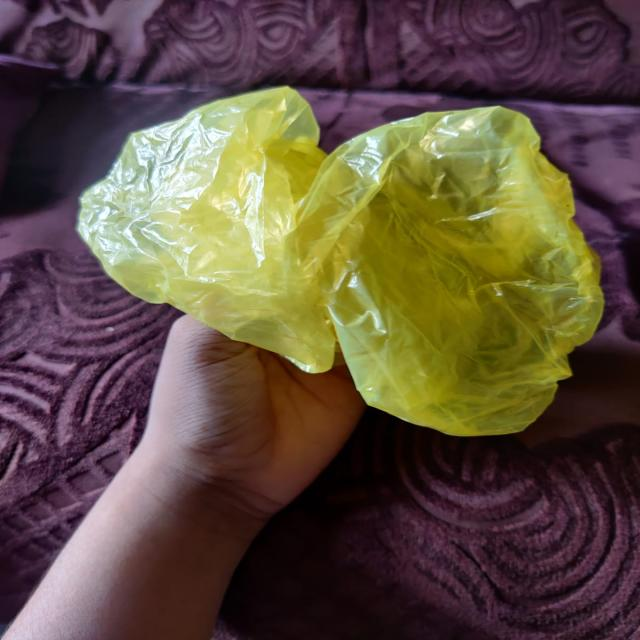Dry: (80, 82, 595, 432)
